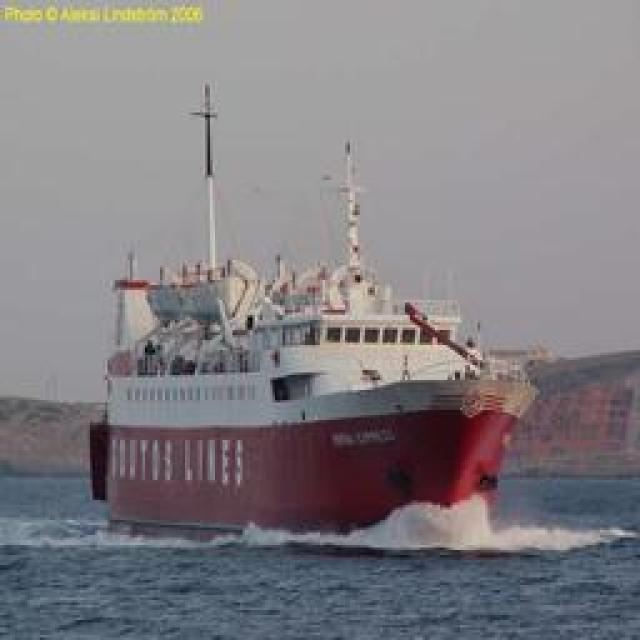CIV_Ship: (92, 242, 536, 540)
